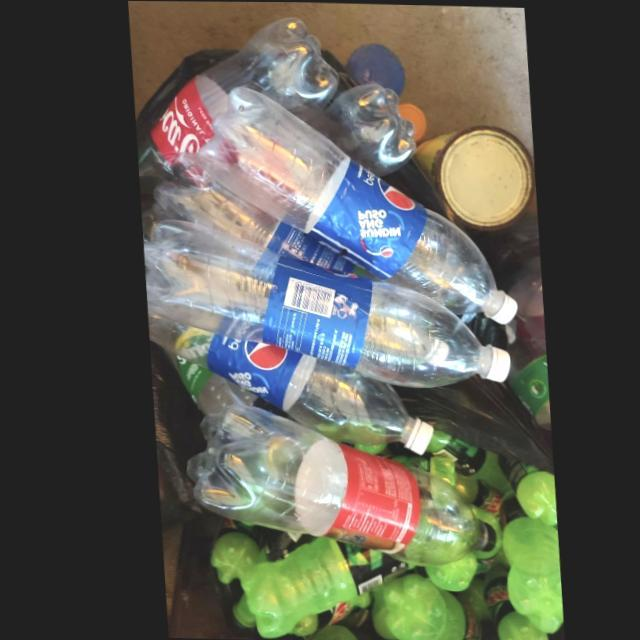metal: (412, 124, 532, 225)
plastic: (193, 85, 512, 323), (139, 218, 504, 386), (177, 404, 488, 564), (142, 313, 426, 453), (135, 16, 338, 206), (222, 536, 408, 637), (305, 82, 413, 175), (491, 491, 553, 632), (373, 573, 470, 640), (473, 564, 538, 640), (491, 453, 548, 525), (201, 517, 250, 583)
